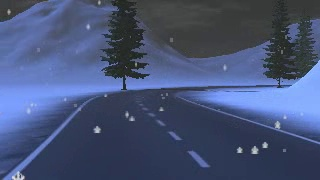Lane: (3, 84, 319, 179)
